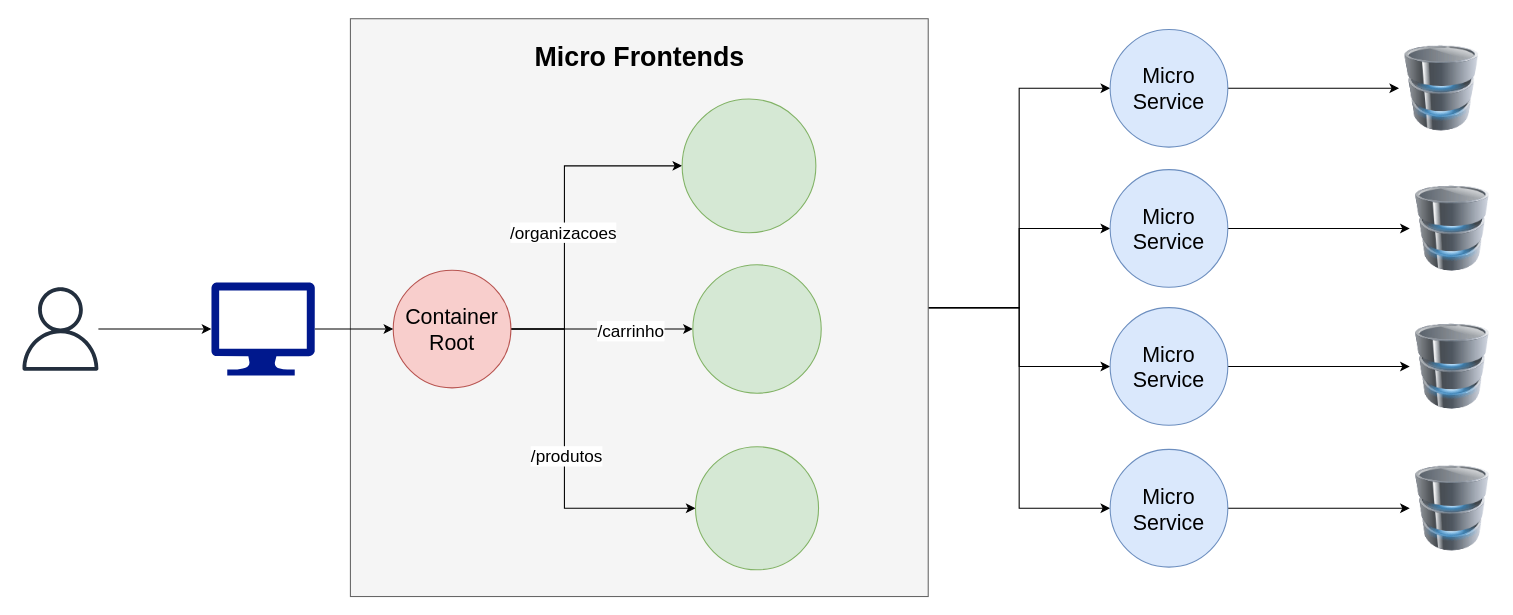
Image size: 1513x615. Some labels were removed from this diagram. Here are the shapes that lost their labels. From the top down, the centre of each, then its label:
At (748,165): "MFE Organizações".
At (756,328): "MFE Carrinho".
At (756,508): "MFE Produtos".
